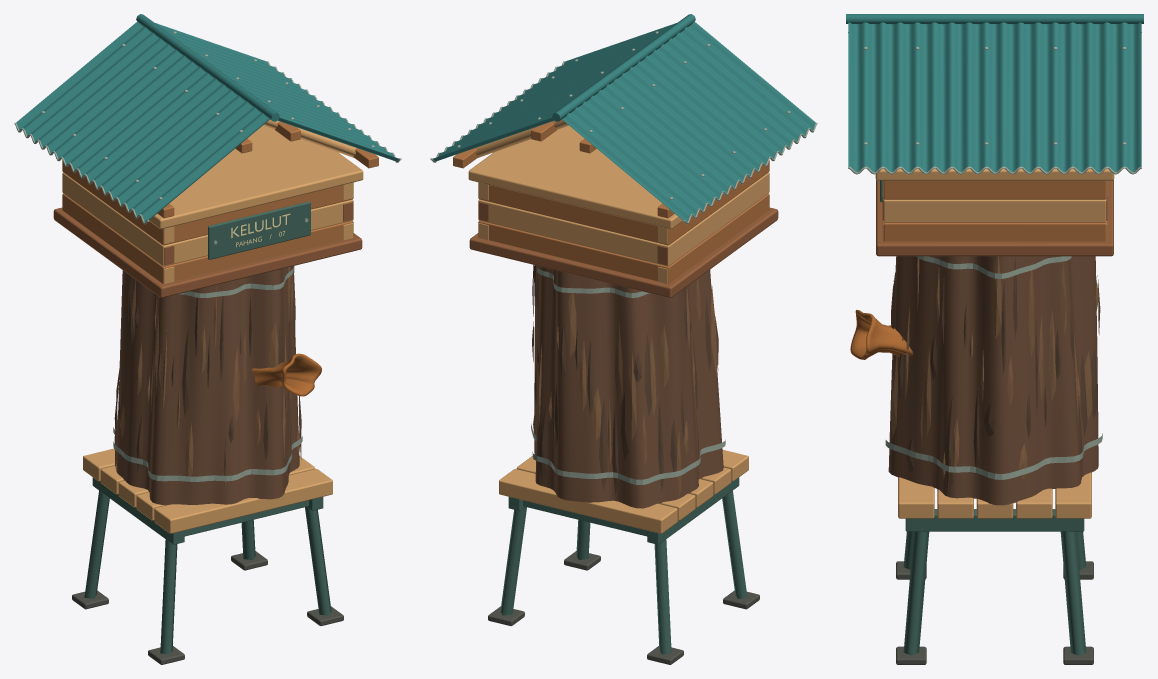
3 views of the same model, side by side, from view 1: azimuth 30°, elevation 25°; view 2: azimuth 150°, elevation 25°; view 3: azimuth 270°, elevation 25° (orthographic). The views are drawn at different scales.
Visible parts, largest first — view 1: Rain roof, Brood log.001, Honey super, Stand, Bark texture, Apiary tag.001, Propolis, Log hoops, Roof timber; view 2: Rain roof, Brood log.001, Honey super, Stand, Bark texture, Log hoops, Roof timber; view 3: Rain roof, Brood log.001, Honey super, Stand, Bark texture, Log hoops, Propolis.
Boxes of the visible parts, left/top/right/bottom form: Rain roof: left=14, top=14, right=401, bottom=224; Brood log.001: left=116, top=266, right=299, bottom=505; Honey super: left=53, top=125, right=363, bottom=297; Stand: left=72, top=448, right=343, bottom=664; Bark texture: left=114, top=266, right=301, bottom=489; Apiary tag.001: left=208, top=201, right=310, bottom=259; Propolis: left=252, top=353, right=321, bottom=396; Log hoops: left=113, top=267, right=302, bottom=481; Roof timber: left=157, top=119, right=378, bottom=218; Rain roof: left=430, top=14, right=817, bottom=224; Brood log.001: left=534, top=265, right=723, bottom=508; Honey super: left=468, top=125, right=778, bottom=297; Stand: left=488, top=450, right=759, bottom=664; Bark texture: left=532, top=265, right=718, bottom=496; Log hoops: left=531, top=267, right=725, bottom=484; Roof timber: left=453, top=119, right=674, bottom=218; Rain roof: left=846, top=14, right=1143, bottom=174; Brood log.001: left=888, top=256, right=1098, bottom=505; Honey super: left=875, top=168, right=1114, bottom=256; Stand: left=896, top=472, right=1093, bottom=664; Bark texture: left=891, top=256, right=1100, bottom=492; Log hoops: left=885, top=256, right=1102, bottom=479; Propolis: left=850, top=310, right=912, bottom=359.
Bounding box in the file's own units: 0.542 × 1.11 × 0.5.
